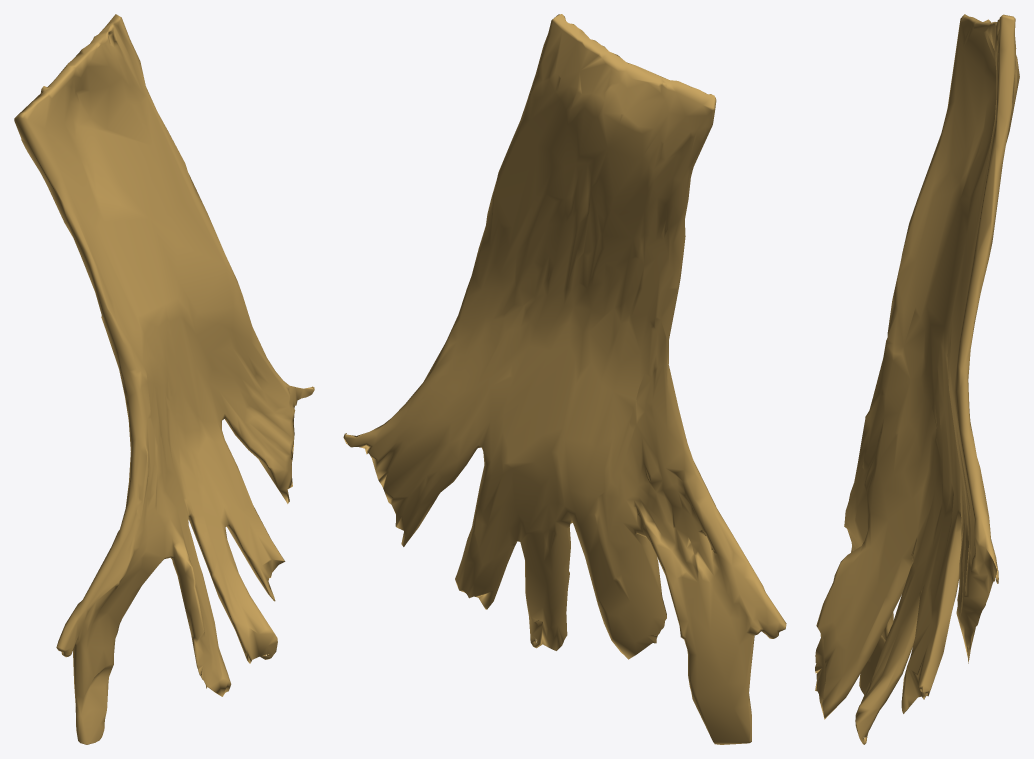
3 views of the same model, side by side, from view 1: azimuth 30°, elevation 25°; view 2: azimuth 150°, elevation 25°; view 3: azimuth 270°, elevation 25° (orthographic). The views are drawn at different scales.
Visible parts, largest first — view 1: 左侧足底长韧带; view 2: 左侧足底长韧带; view 3: 左侧足底长韧带.
Part boxes in pixels (x1,y1,x2,y2): 左侧足底长韧带: [14, 14, 314, 744]; 左侧足底长韧带: [343, 14, 786, 744]; 左侧足底长韧带: [815, 14, 1019, 744].
Bounding box in the file's own units: 0.0749 × 0.1471 × 0.0374.
